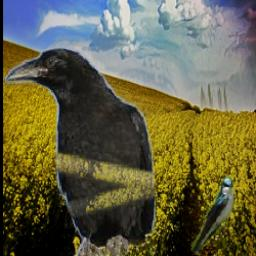Crow: (3, 44, 156, 256)
Swallow: (191, 175, 236, 255)
